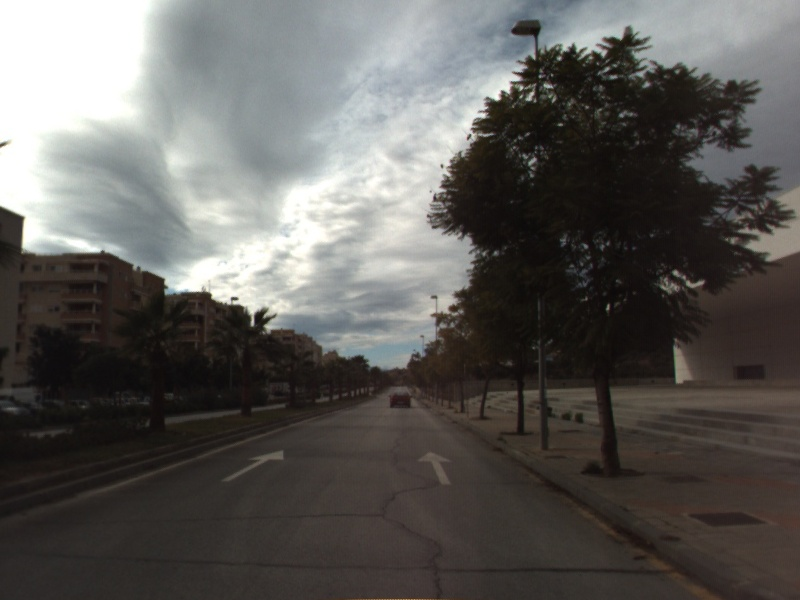STRAIGHT: (219, 448, 285, 484), (415, 449, 454, 487)
